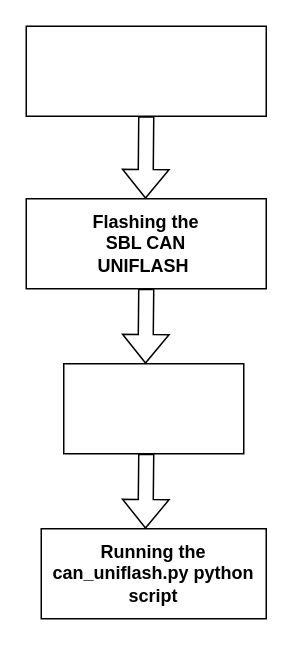
Image size: 293x645. Some labels were removed from this diagram. The centre of each missing label's shape, as x and y in pixels:
"Set The EVM in QSPI Boot Mode" belongs at point 153,408.
"Set The EVM in UART Boot Mode" belongs at point 145,70.
